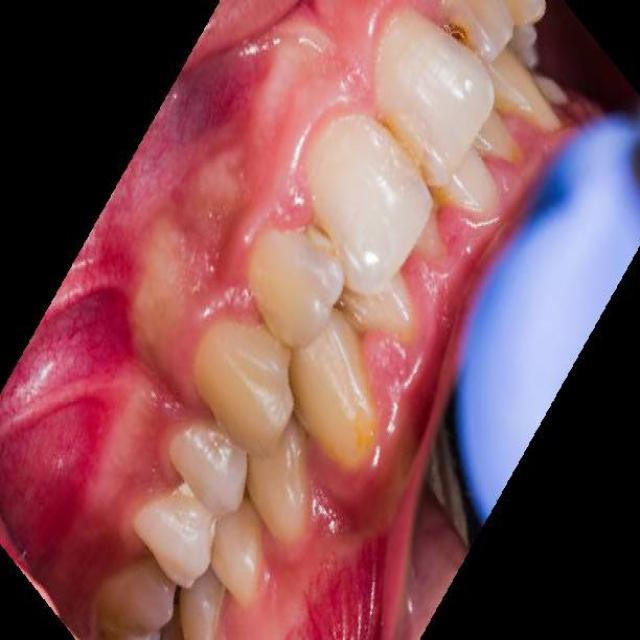caries: (437, 9, 479, 59)
